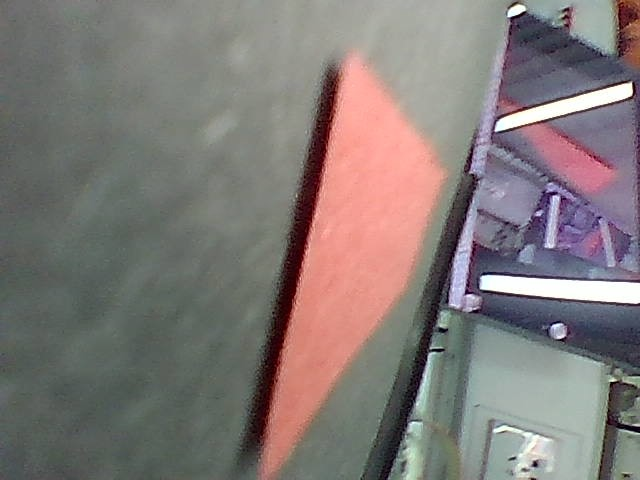card: (260, 54, 445, 479)
